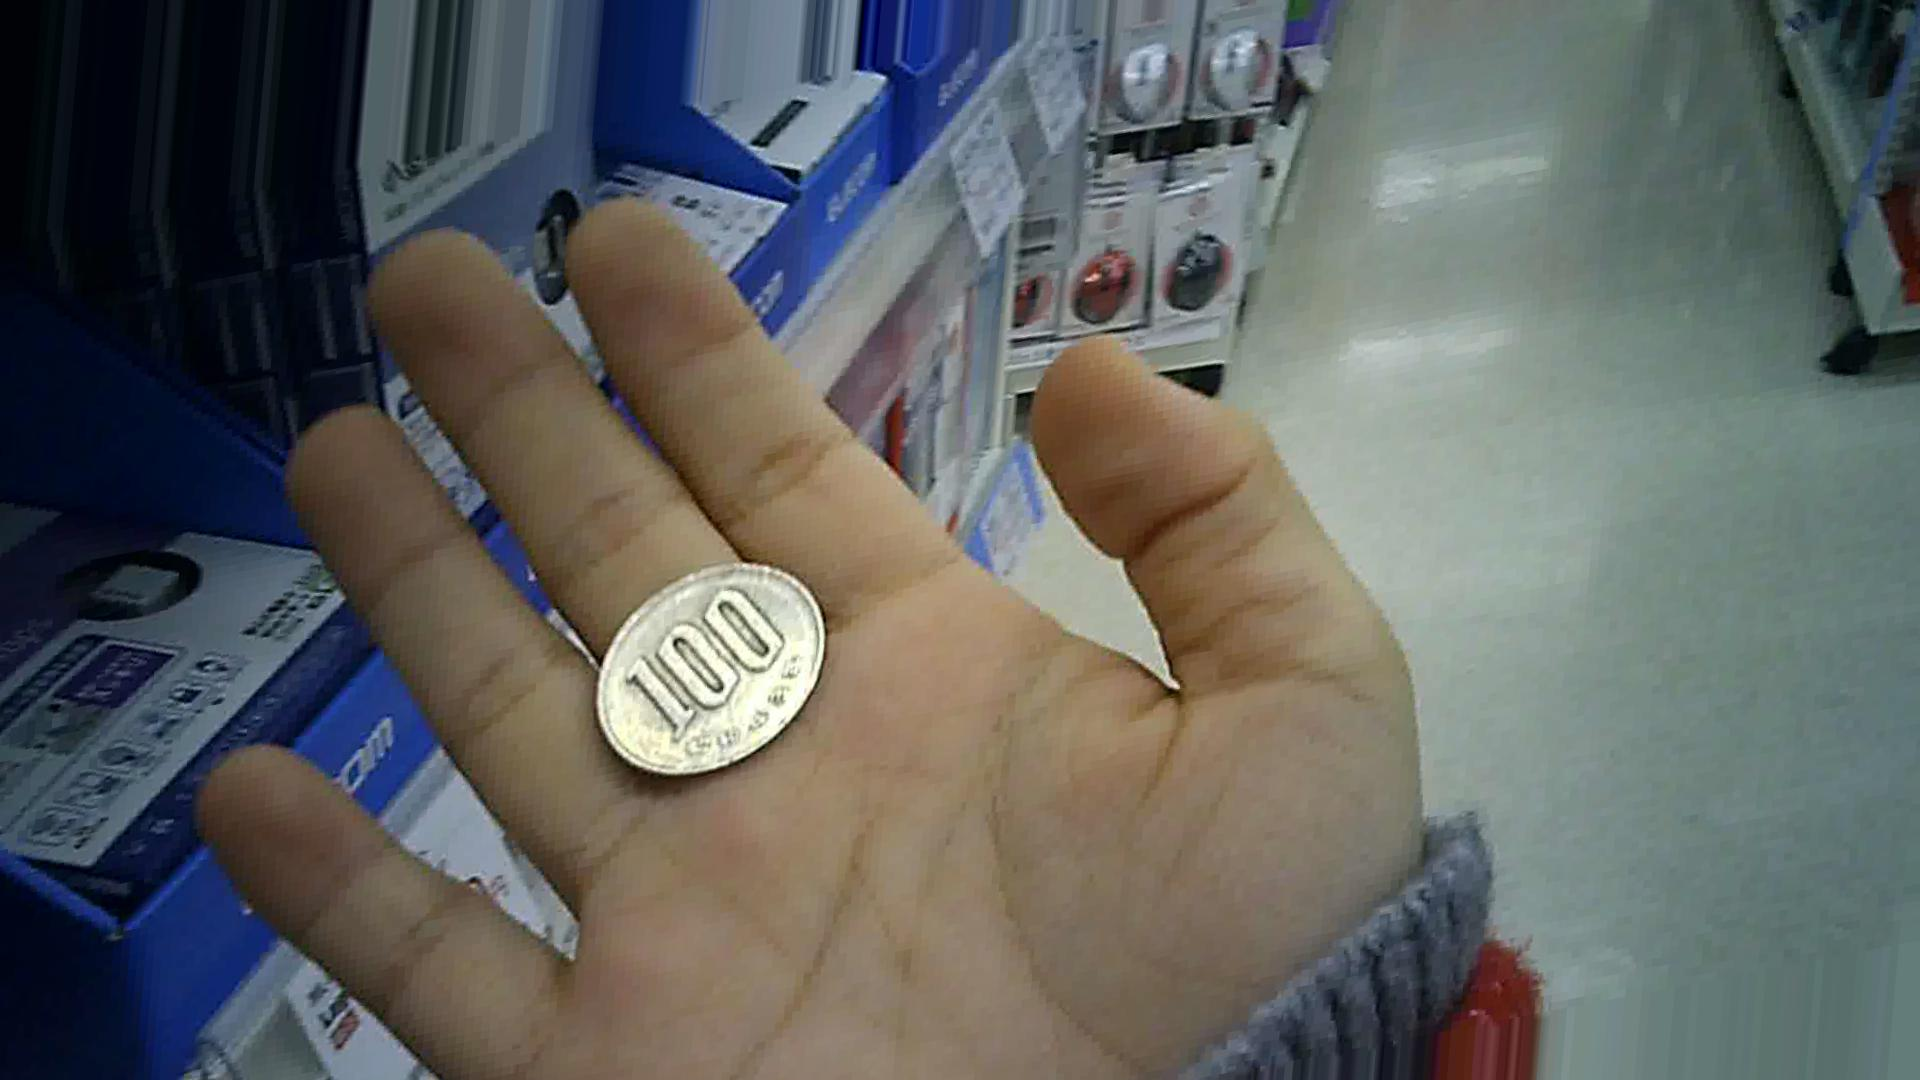100 Yen: (593, 556, 825, 771)
